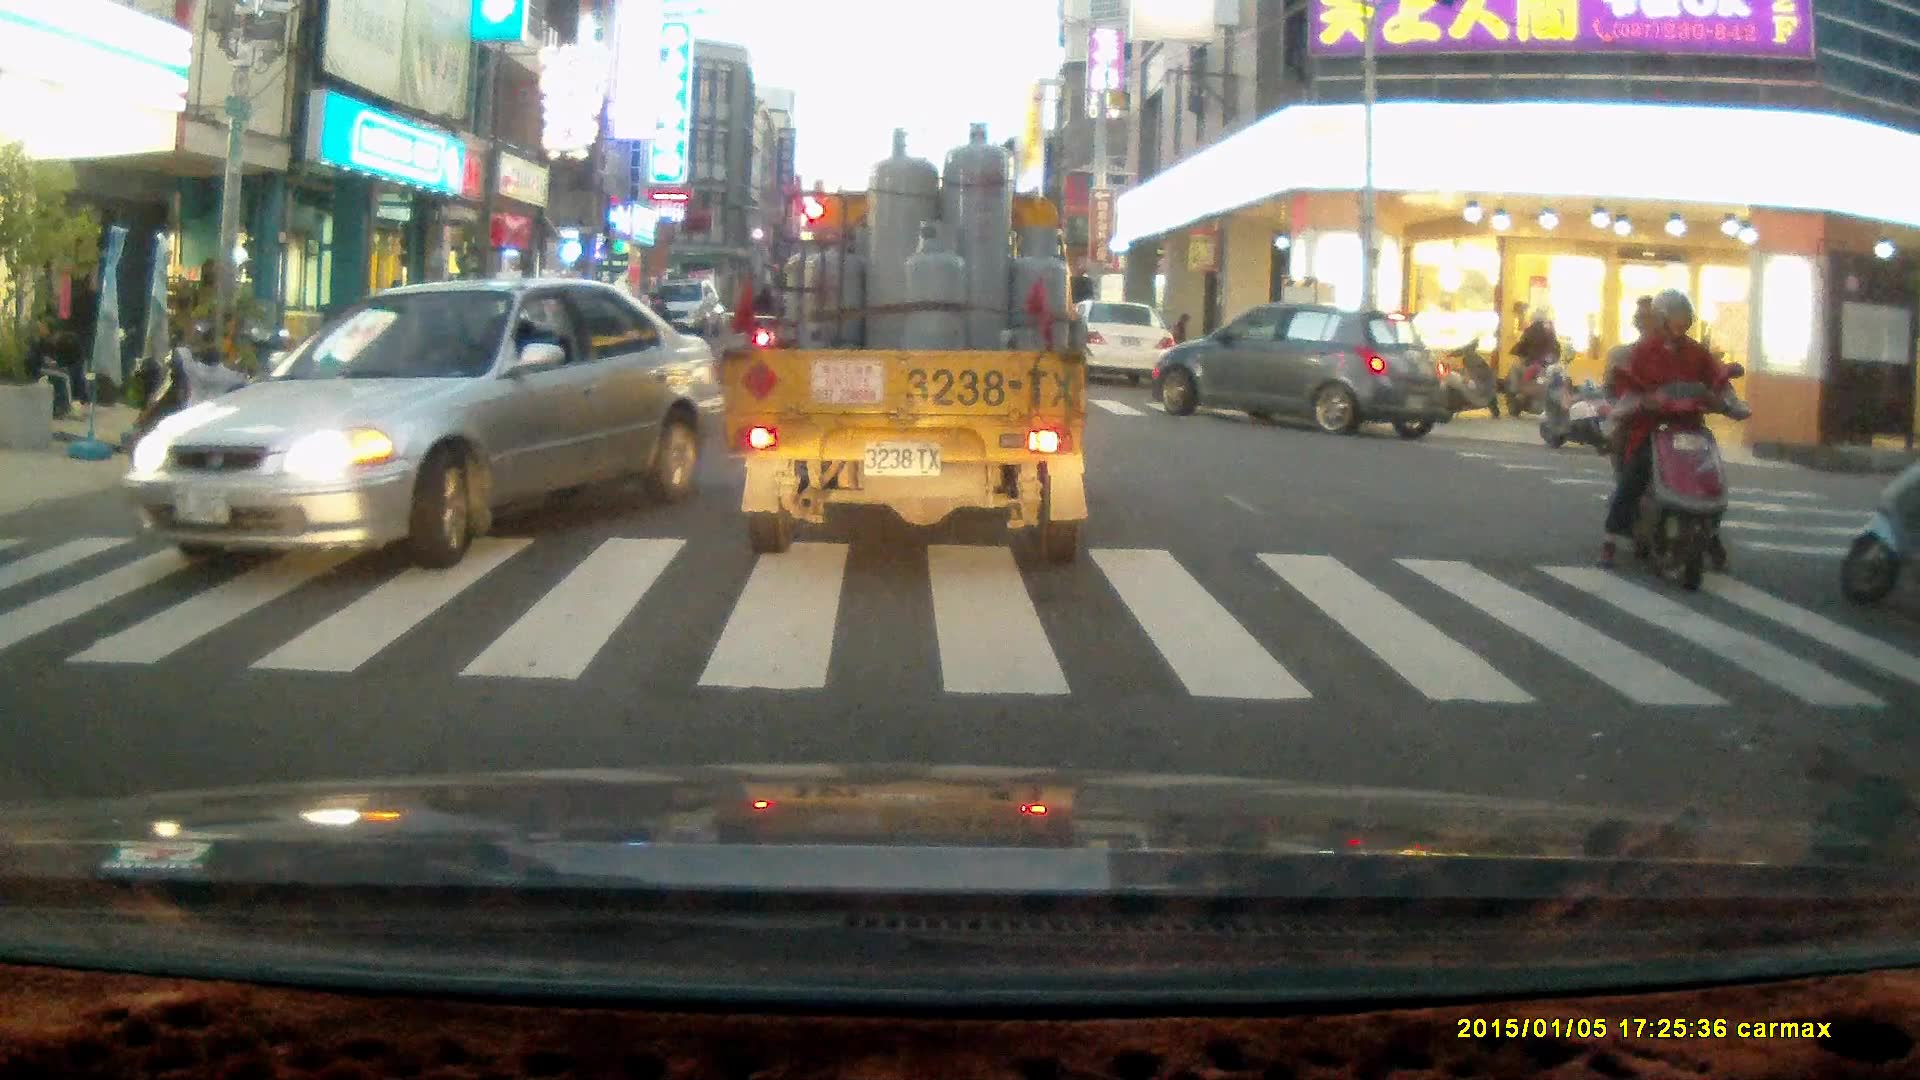pedestrian: (174, 341, 250, 458), (1169, 310, 1190, 374)
rider: (1590, 288, 1744, 590), (1837, 438, 1920, 609), (1502, 305, 1566, 421)
vehicle: (121, 277, 717, 574), (717, 119, 1094, 574), (1154, 303, 1460, 441), (1055, 300, 1171, 383), (651, 279, 722, 337)
